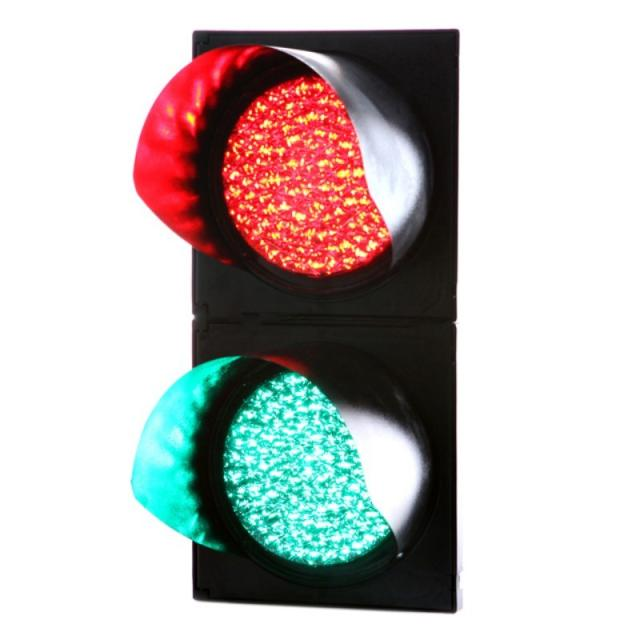green: (198, 356, 428, 576)
red: (185, 70, 424, 284)
